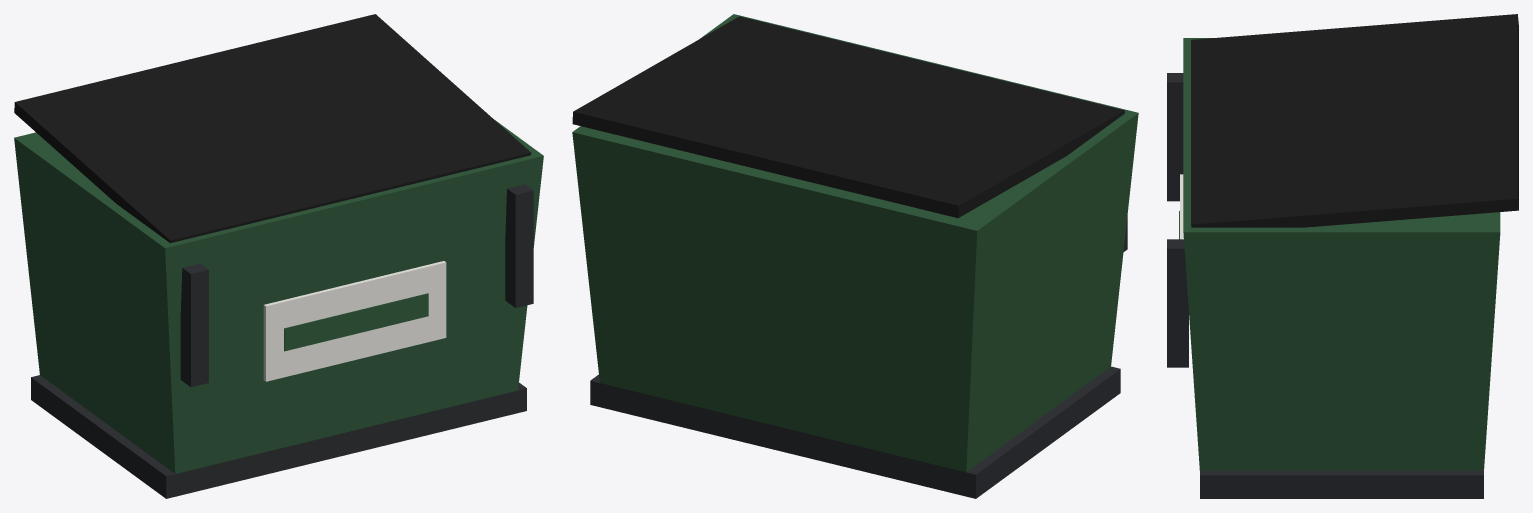
The model's file is OT_Dumpster.glb.
3 renders of one model, left to right at view 1: azimuth 30°, elevation 25°; view 2: azimuth 150°, elevation 25°; view 3: azimuth 270°, elevation 25°, orthographic. The views are drawn at different scales.
Parts seen in each view (by area): view 1: OT_Dumpster_DumpGreen__2f5a3a, OT_Dumpster_Lid__1a1a1a, OT_Dumpster_Skid__2a2c30, OT_Dumpster_DumpLabel__f0efe9, OT_Dumpster_Pocket__2a2c30, OT_Dumpster_DumpText__2f5a3a; view 2: OT_Dumpster_DumpGreen__2f5a3a, OT_Dumpster_Lid__1a1a1a, OT_Dumpster_Skid__2a2c30; view 3: OT_Dumpster_DumpGreen__2f5a3a, OT_Dumpster_Lid__1a1a1a, OT_Dumpster_Skid__2a2c30, OT_Dumpster_Pocket__2a2c30.
Boxes of the visible parts, x1,y1,x2,y2 form: OT_Dumpster_DumpGreen__2f5a3a: (14, 119, 543, 473); OT_Dumpster_Lid__1a1a1a: (14, 14, 531, 243); OT_Dumpster_Skid__2a2c30: (31, 375, 526, 498); OT_Dumpster_DumpLabel__f0efe9: (263, 261, 446, 381); OT_Dumpster_Pocket__2a2c30: (180, 184, 533, 387); OT_Dumpster_DumpText__2f5a3a: (284, 293, 428, 351); OT_Dumpster_DumpGreen__2f5a3a: (572, 14, 1138, 472); OT_Dumpster_Lid__1a1a1a: (572, 16, 1124, 217); OT_Dumpster_Skid__2a2c30: (590, 366, 1120, 498); OT_Dumpster_DumpGreen__2f5a3a: (1183, 38, 1500, 470); OT_Dumpster_Lid__1a1a1a: (1191, 14, 1518, 227); OT_Dumpster_Skid__2a2c30: (1200, 470, 1483, 498); OT_Dumpster_Pocket__2a2c30: (1167, 73, 1188, 367).
Size of the model in its own units: 2.1 by 1.57 by 1.61.
